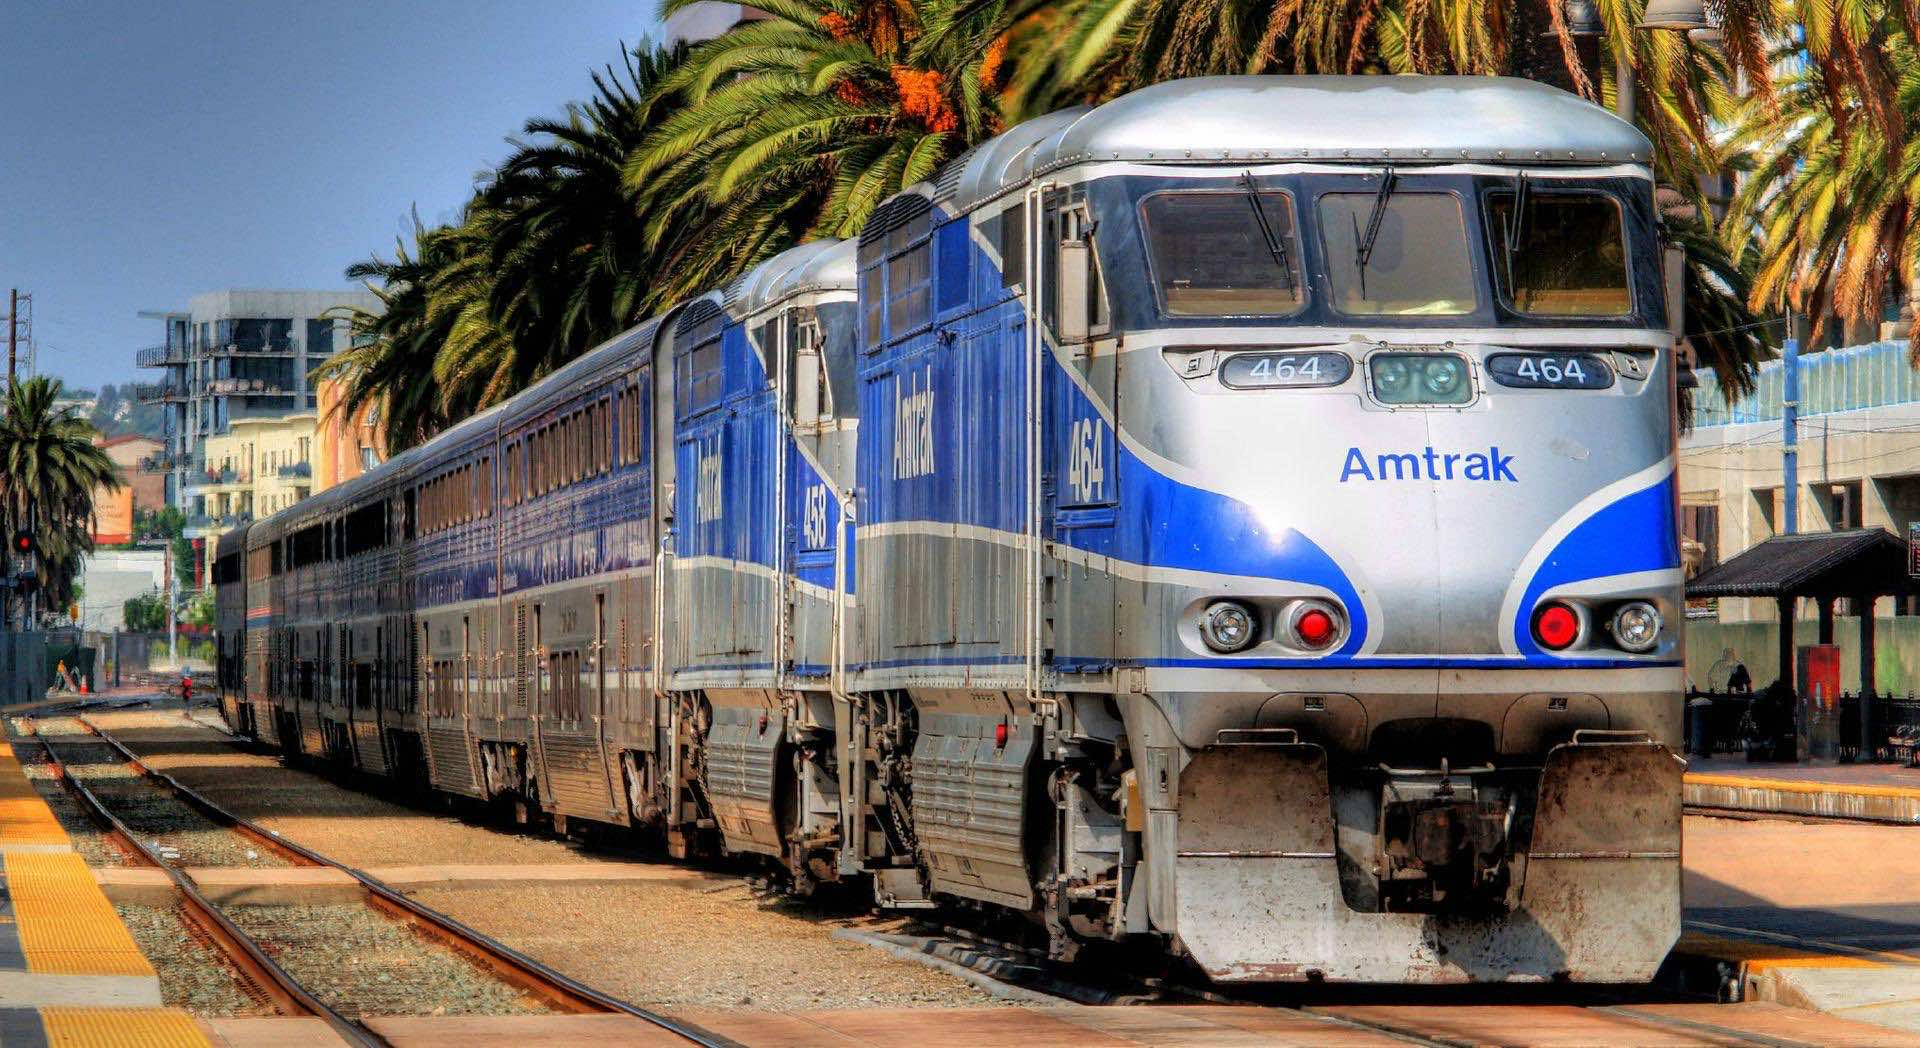train: (212, 72, 1686, 989)
